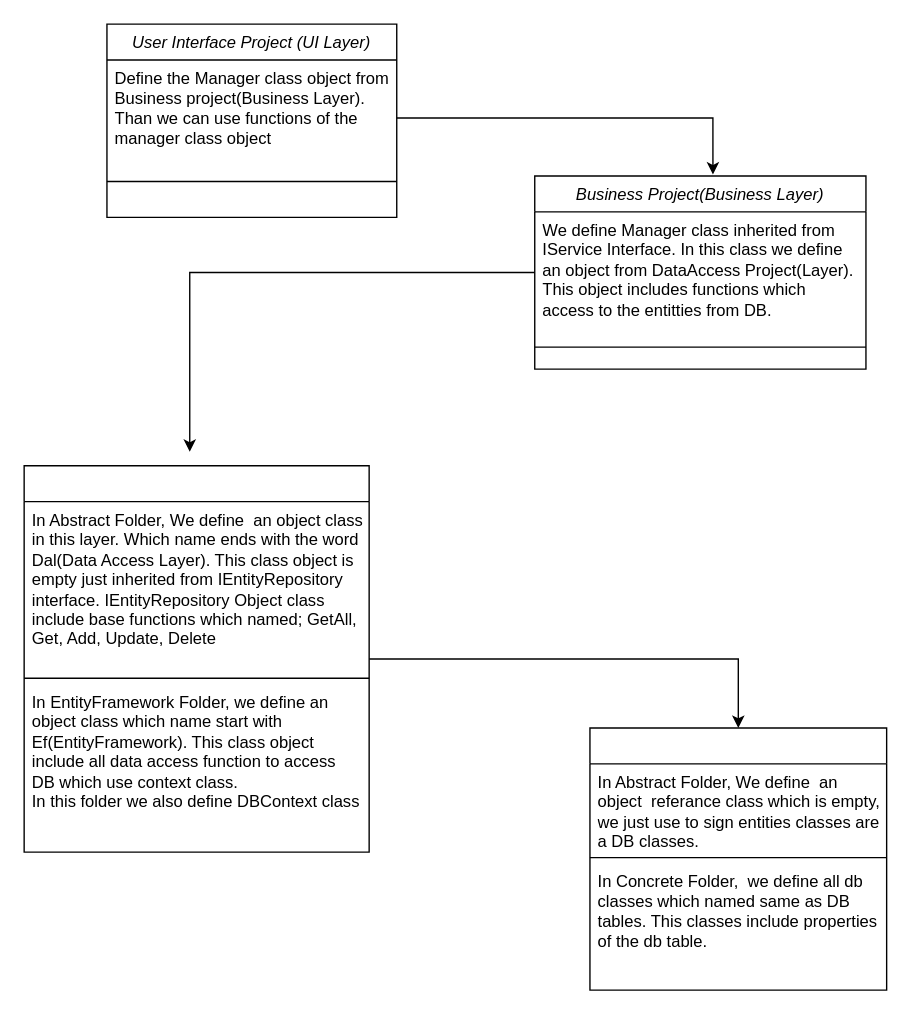
Some shapes in this 911 by 1018 pixel diagram are drawn without their labels. Each missing label, with the box of its shape:
DataAccess Project(DataAccess Layer): (23, 464, 369, 852)
Entities Project(Entities Layer): (589, 727, 887, 990)
